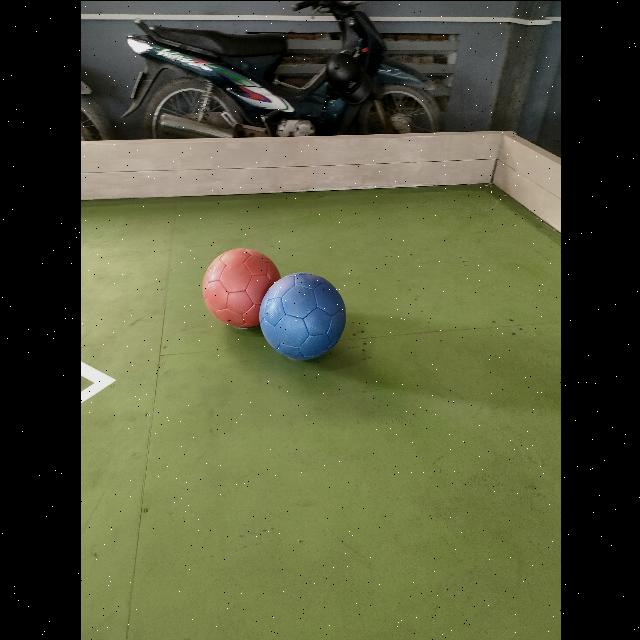B: (258, 272, 345, 359)
R: (201, 247, 279, 328)
